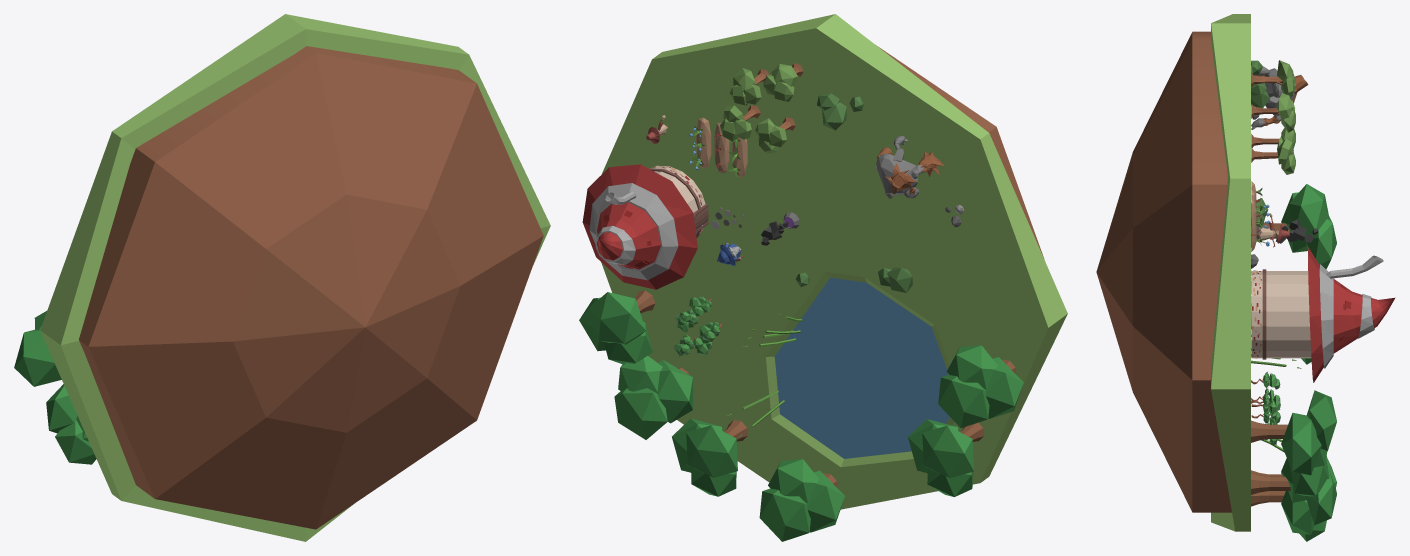
Rendered from house.fbx.
3 renders of one model, left to right at view 1: azimuth 30°, elevation 25°; view 2: azimuth 150°, elevation 25°; view 3: azimuth 270°, elevation 25°, orthographic. The views are drawn at different scales.
Parts seen in each view (by area): view 1: Cylinder002; view 2: Cylinder002; view 3: Cylinder002.
Part boxes in pixels (x1=…): Cylinder002: x1=14, y1=14, x2=550, y2=541; Cylinder002: x1=579, y1=14, x2=1067, y2=541; Cylinder002: x1=1096, y1=14, x2=1395, y2=541.
Size of the model in its own units: 593 by 593 by 322.
